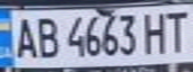3: (118, 10, 142, 56)
4: (63, 12, 87, 59)
6: (81, 11, 103, 58), (100, 10, 121, 57)
A: (9, 13, 39, 60)
B: (33, 13, 60, 60)
H: (139, 8, 172, 55)
T: (163, 8, 193, 54)
